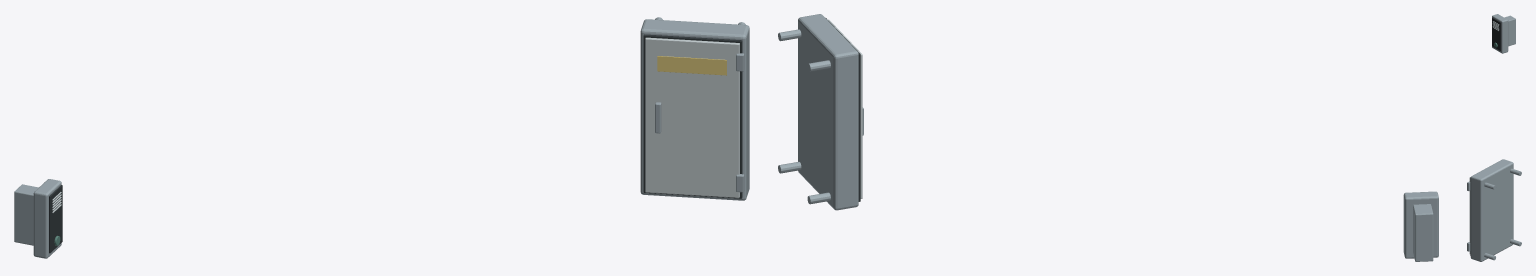
File: TA_VA_SafetyEquipment.fbx
The picture shows the model from 3 angles, left to right: view 1: azimuth 30°, elevation 25°; view 2: azimuth 150°, elevation 25°; view 3: azimuth 270°, elevation 25°; orthographic projection. The views are drawn at different scales.
Visible parts, largest first — view 1: TA_VA_SafetyEquipment; view 2: TA_VA_SafetyEquipment; view 3: TA_VA_SafetyEquipment.
Boxes of the visible parts, left/top/right/bottom form: TA_VA_SafetyEquipment: left=14, top=17, right=749, bottom=258; TA_VA_SafetyEquipment: left=778, top=14, right=1438, bottom=261; TA_VA_SafetyEquipment: left=1467, top=14, right=1521, bottom=261.
Bounding box in the file's own units: 632 × 140 × 83.88.
